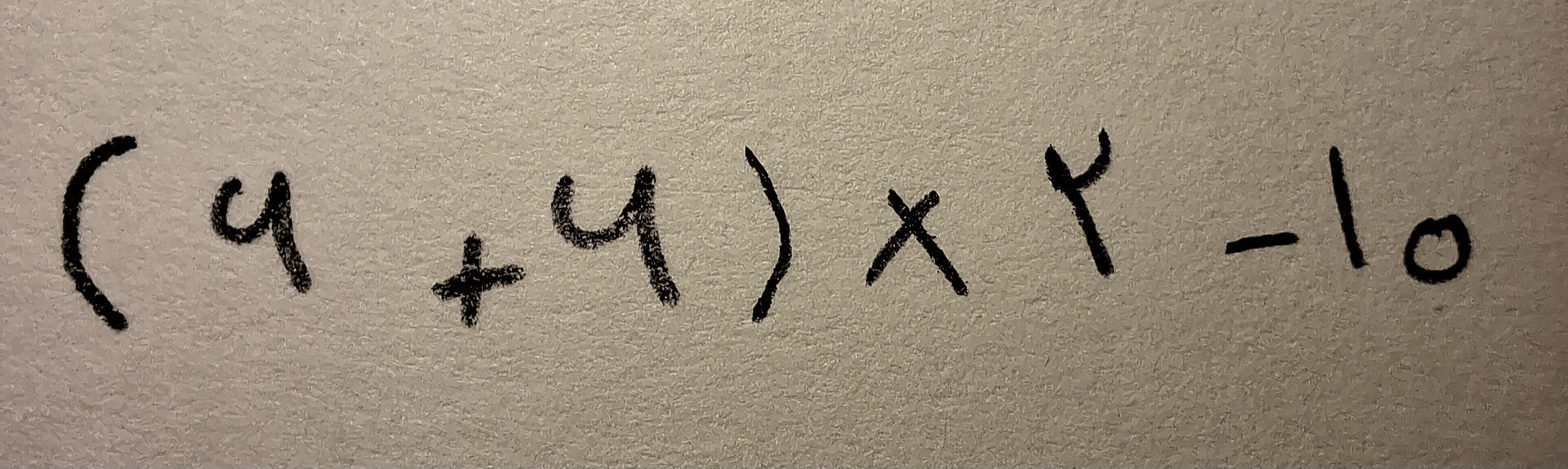character: (551, 167, 683, 304), (60, 135, 137, 333), (212, 167, 312, 292), (867, 191, 968, 300), (1045, 128, 1116, 279), (433, 232, 521, 326), (746, 145, 792, 323), (1329, 147, 1368, 273), (1405, 215, 1472, 287), (1225, 232, 1296, 254)
